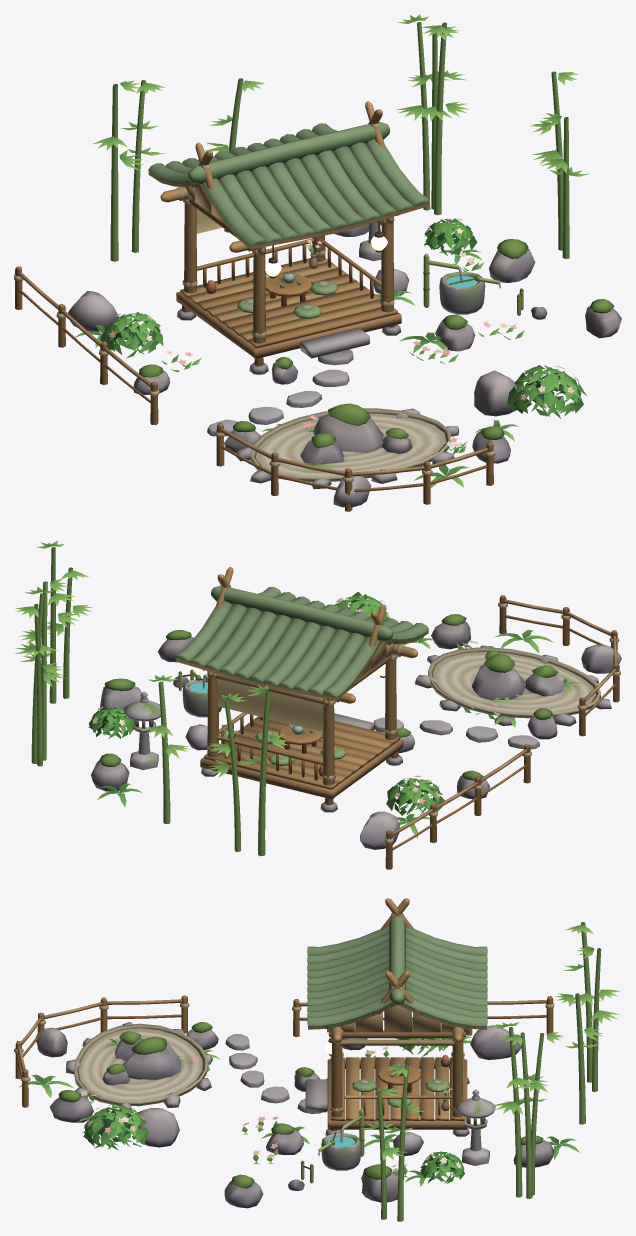
Rendered from poi-tea-0.glb.
3 views of the same model, one above another, from view 1: azimuth 30°, elevation 25°; view 2: azimuth 150°, elevation 25°; view 3: azimuth 270°, elevation 25° (orthographic). The views are drawn at different scales.
Visible parts, largest first — view 1: body, leaf; view 2: body, leaf, cloth; view 3: body, leaf.
Part boxes in pixels (<box>): body: <box>14,101,621,511</box>; leaf: <box>75,14,590,488</box>; body: <box>91,567,621,869</box>; leaf: <box>15,540,582,856</box>; cloth: <box>217,679,323,731</box>; body: <box>14,898,554,1208</box>; leaf: <box>19,922,620,1221</box>.
Bounding box in the file's own units: 11.11 × 4.55 × 13.57.
